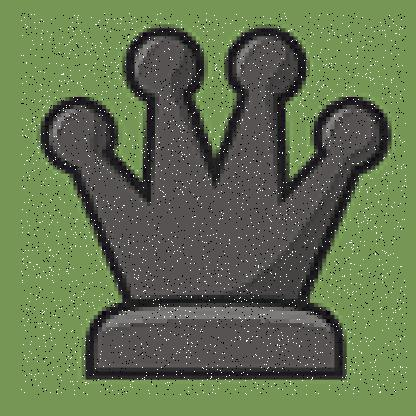Black Queen: (21, 13, 408, 396)
